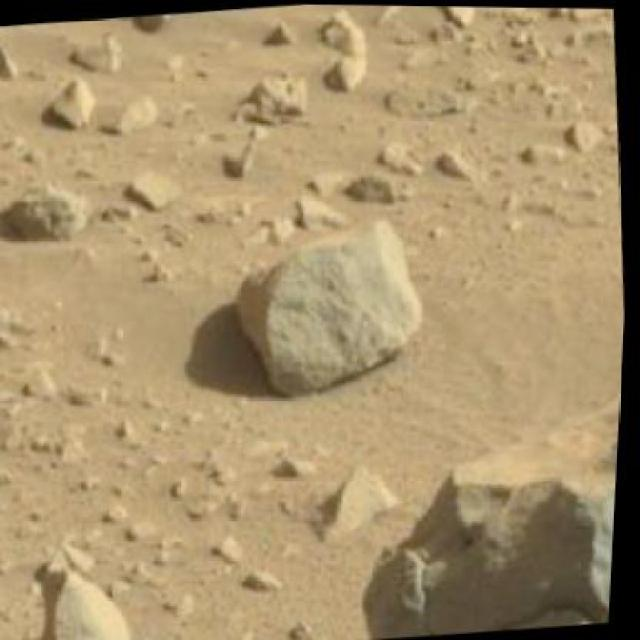rock: (294, 328, 626, 638), (226, 213, 434, 404), (17, 554, 149, 638), (44, 76, 101, 138)
